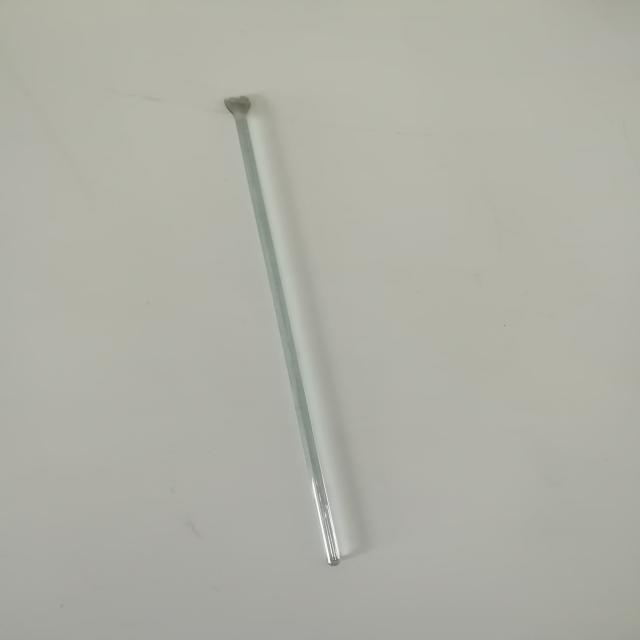Glass_Rod: (170, 75, 435, 591)
